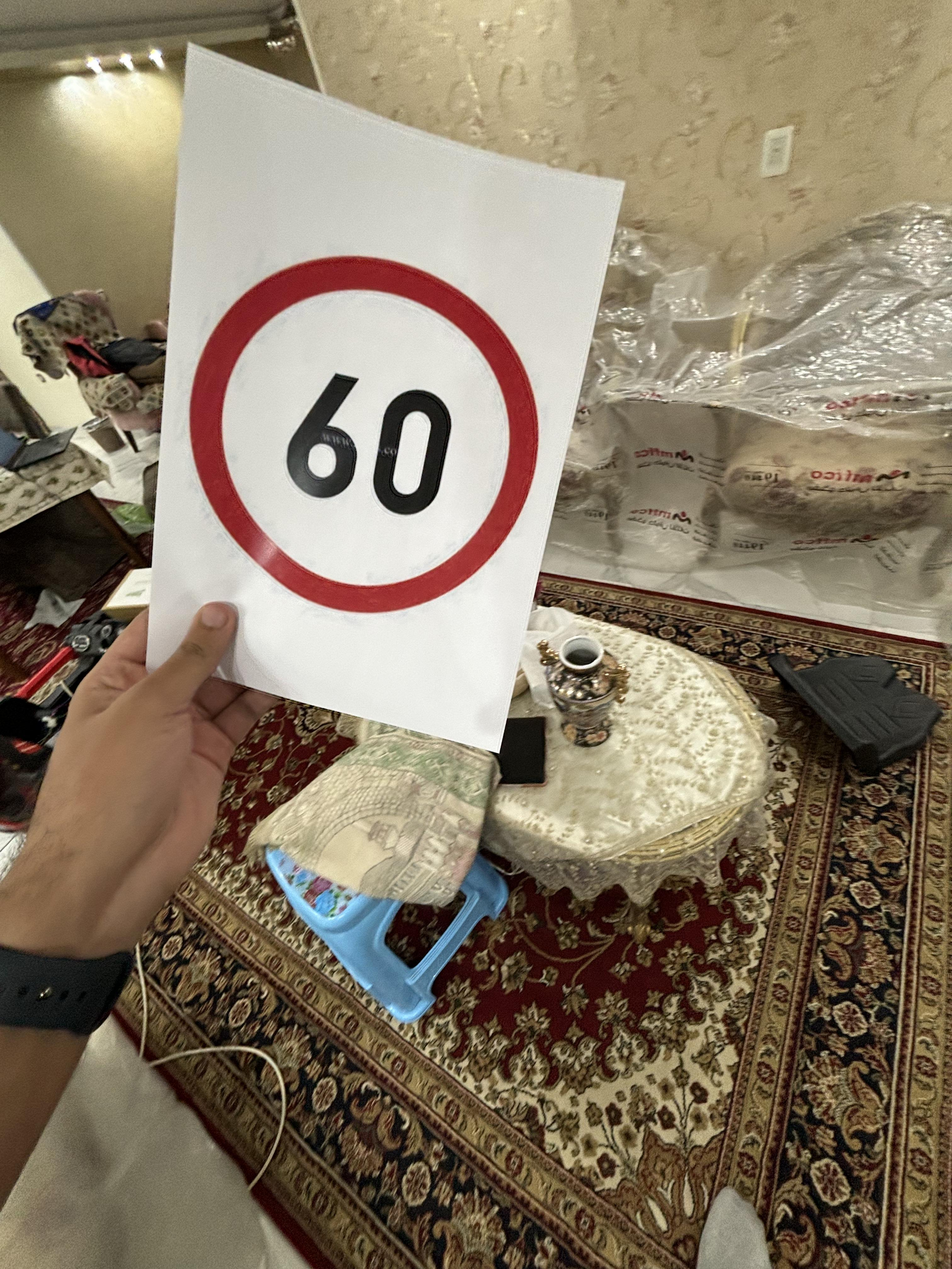60-Speed: (186, 256, 543, 616)
